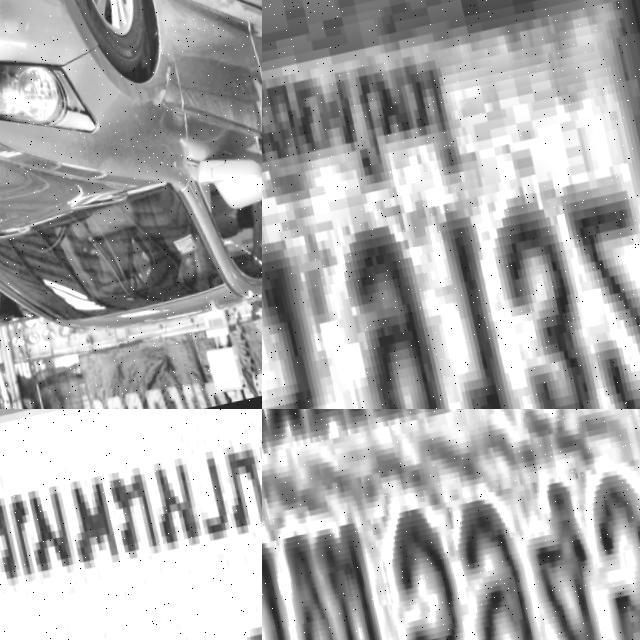license-plate: (262, 0, 640, 409), (262, 409, 640, 640), (0, 409, 262, 640)
